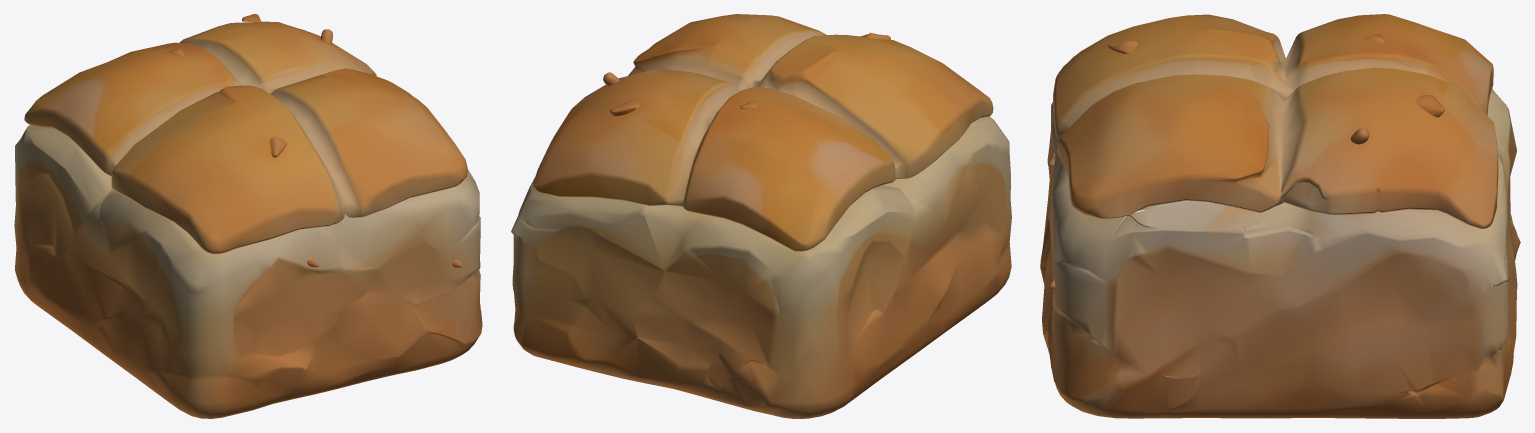
Rendered from moldy.glb.
The picture shows the model from 3 angles, left to right: view 1: azimuth 30°, elevation 25°; view 2: azimuth 150°, elevation 25°; view 3: azimuth 270°, elevation 25°; orthographic projection. The views are drawn at different scales.
Parts seen in each view (by area): view 1: tripo_node_7ec52a13-f938-4af4-886e-e011d7c08f29; view 2: tripo_node_7ec52a13-f938-4af4-886e-e011d7c08f29; view 3: tripo_node_7ec52a13-f938-4af4-886e-e011d7c08f29.
Boxes of the visible parts, <box> form: tripo_node_7ec52a13-f938-4af4-886e-e011d7c08f29: <box>14,14,482,418</box>; tripo_node_7ec52a13-f938-4af4-886e-e011d7c08f29: <box>511,14,1011,418</box>; tripo_node_7ec52a13-f938-4af4-886e-e011d7c08f29: <box>1040,14,1520,418</box>.
Size of the model in its own units: 0.8921 by 0.6772 by 0.9995.
1 material, 1 textured.
